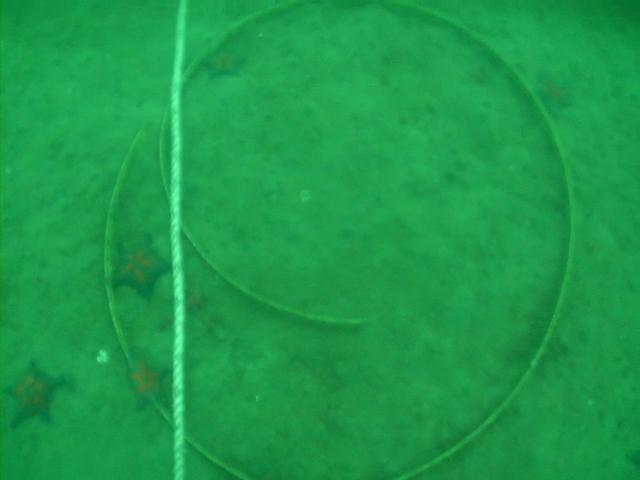rope: (168, 0, 188, 480)
